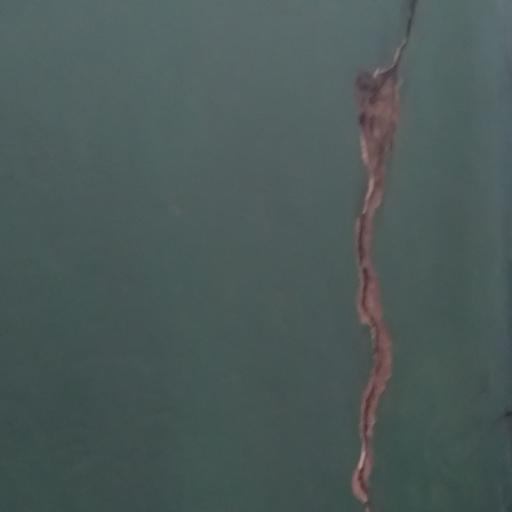major_crack: (344, 0, 429, 512)
